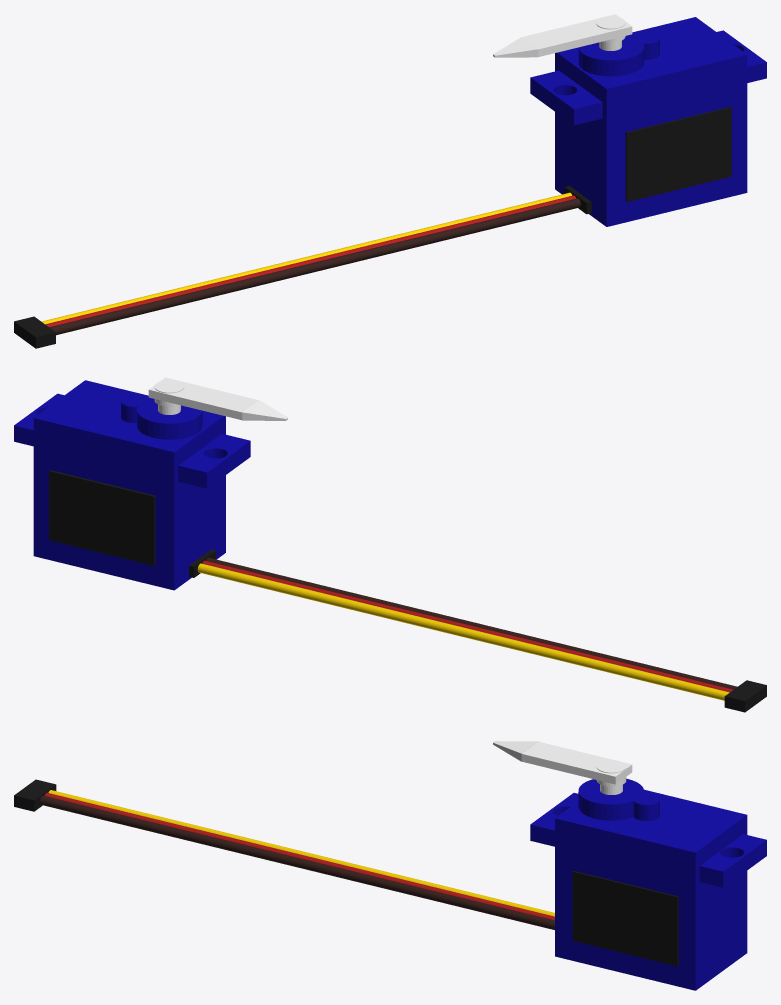
The model's file is Servo.fbx.
3 renders of one model, top to bottom at view 1: azimuth 30°, elevation 25°; view 2: azimuth 150°, elevation 25°; view 3: azimuth 330°, elevation 25°, orthographic.
Visible parts, largest first — view 1: Cube, Cube.002, Cube.005, Cylinder.006, Cube.001, Cylinder.005, Cylinder.004, Cube.004, Cylinder, Cube.007, Cube.003; view 2: Cube, Cube.002, Cube.005, Cylinder.004, Cube.001, Cylinder.006, Cylinder.005, Cube.004, Cylinder, Cube.007, Cube.003; view 3: Cube, Cube.002, Cube.005, Cylinder.006, Cube.001, Cylinder.005, Cylinder.004, Cube.004, Cylinder, Cube.007, Cylinder.001, Cube.003 (+1 smaller).
Boxes of the visible parts, x1,y1,x2,y2 form: Cube: [555, 90, 747, 226]; Cube.002: [555, 17, 747, 124]; Cube.005: [625, 107, 731, 201]; Cylinder.006: [49, 198, 580, 335]; Cube.001: [530, 30, 766, 125]; Cylinder.005: [45, 195, 576, 327]; Cylinder.004: [41, 192, 572, 324]; Cube.004: [522, 14, 632, 56]; Cylinder: [578, 35, 644, 76]; Cube.007: [14, 316, 55, 348]; Cube.003: [493, 37, 538, 57]; Cube: [33, 450, 225, 590]; Cube.002: [33, 380, 225, 487]; Cube.005: [49, 470, 155, 565]; Cylinder.004: [197, 563, 729, 700]; Cube.001: [14, 393, 250, 488]; Cylinder.006: [206, 557, 737, 689]; Cylinder.005: [202, 560, 733, 692]; Cube.004: [148, 377, 258, 420]; Cylinder: [137, 398, 202, 439]; Cube.007: [724, 680, 766, 712]; Cube.003: [242, 400, 287, 420]; Cube: [555, 850, 747, 990]; Cube.002: [555, 789, 747, 887]; Cube.005: [572, 871, 678, 966]; Cylinder.006: [40, 795, 554, 929]; Cube.001: [530, 793, 766, 887]; Cylinder.005: [44, 792, 554, 920]; Cylinder.004: [48, 790, 554, 916]; Cube.004: [521, 741, 632, 784]; Cylinder: [578, 778, 643, 820]; Cube.007: [14, 779, 56, 811]; Cylinder.001: [633, 794, 659, 820]; Cube.003: [493, 741, 538, 761].
Size of the model in its own units: 1609 by 380 by 210.
